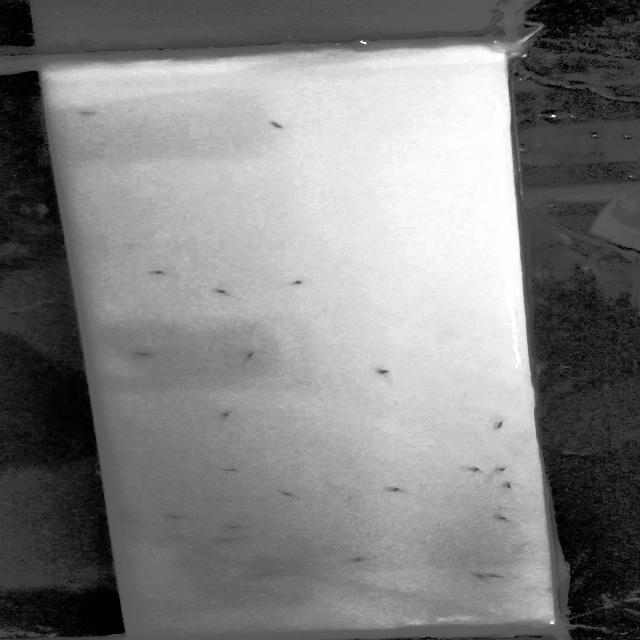shrimp: (493, 507, 525, 529), (284, 274, 316, 290), (242, 349, 268, 367), (147, 264, 168, 282), (212, 535, 254, 544), (222, 521, 256, 532), (207, 287, 240, 298), (135, 347, 161, 360), (492, 422, 516, 436), (261, 117, 291, 128), (369, 366, 394, 379), (216, 407, 242, 419), (460, 463, 484, 476), (472, 570, 490, 587), (502, 480, 522, 495), (162, 511, 192, 521), (110, 518, 145, 526), (218, 463, 243, 474), (486, 572, 515, 581), (351, 555, 372, 567), (274, 490, 301, 499), (384, 484, 407, 494), (248, 570, 278, 576), (112, 512, 141, 518), (497, 464, 510, 474)
